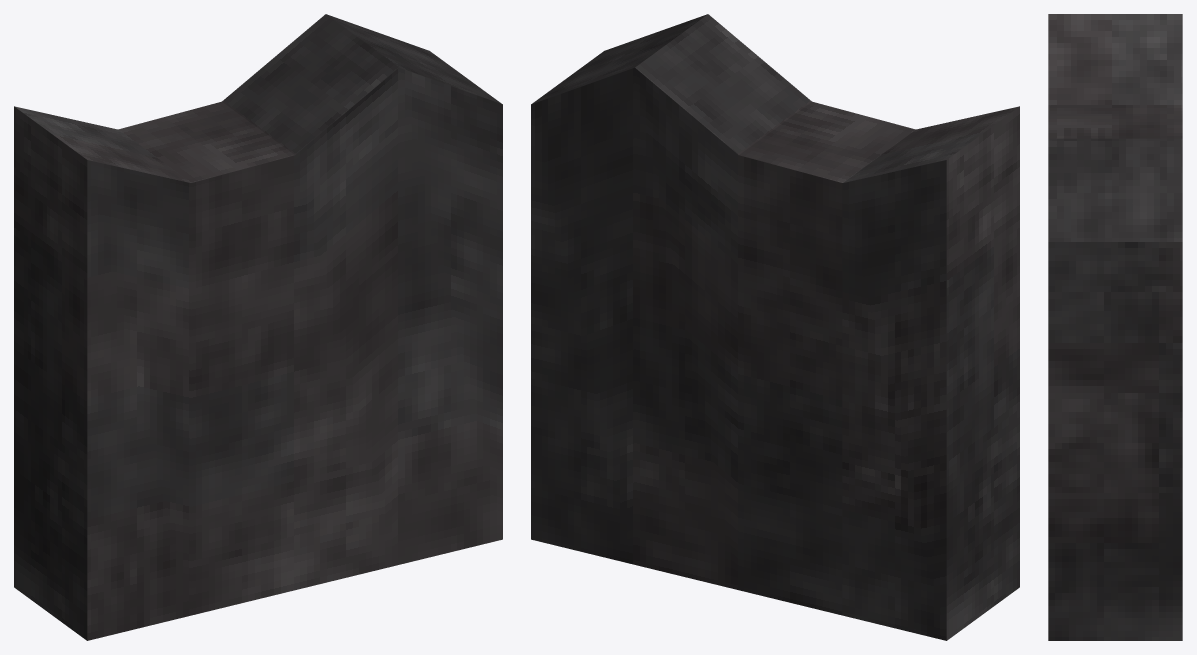
File: balk_14.glb
The picture shows the model from 3 angles, left to right: view 1: azimuth 30°, elevation 25°; view 2: azimuth 150°, elevation 25°; view 3: azimuth 270°, elevation 25°; orthographic projection. The views are drawn at different scales.
Parts seen in each view (by area): view 1: Куб.009; view 2: Куб.009; view 3: Куб.009.
Boxes of the visible parts, x1,y1,x2,y2 form: Куб.009: (14, 14, 502, 640); Куб.009: (531, 14, 1019, 640); Куб.009: (1048, 14, 1182, 640).
Bounding box in the file's own units: 2.49 × 2.84 × 0.7589.
Materials: 1 (1 with a texture image).
